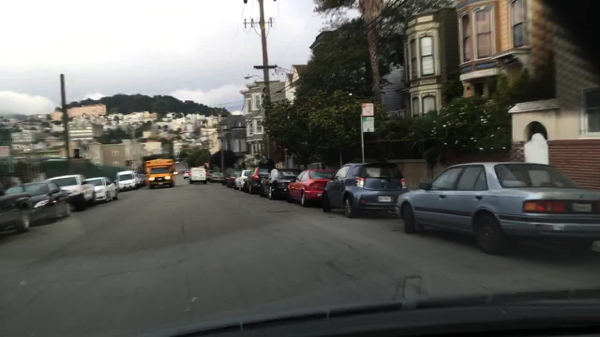car: (396, 161, 599, 256), (320, 161, 408, 219), (22, 181, 70, 225), (285, 169, 336, 208), (1, 173, 32, 234), (48, 174, 96, 213), (259, 168, 303, 201), (84, 176, 119, 204), (242, 167, 276, 194), (115, 170, 139, 193), (234, 169, 253, 191), (188, 167, 207, 185), (227, 171, 243, 189), (220, 170, 234, 185), (209, 171, 225, 184), (206, 169, 219, 181), (133, 172, 142, 188), (139, 173, 147, 187), (183, 171, 193, 180), (173, 170, 178, 176), (183, 168, 188, 174), (175, 160, 180, 165)
traffic sign: (362, 118, 374, 133), (361, 103, 374, 116)
truck: (143, 158, 175, 189)
